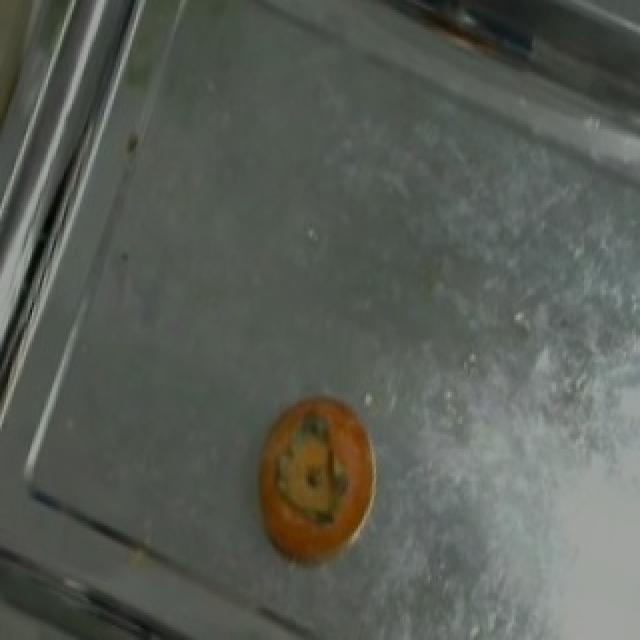Fruit: (234, 380, 396, 580)
